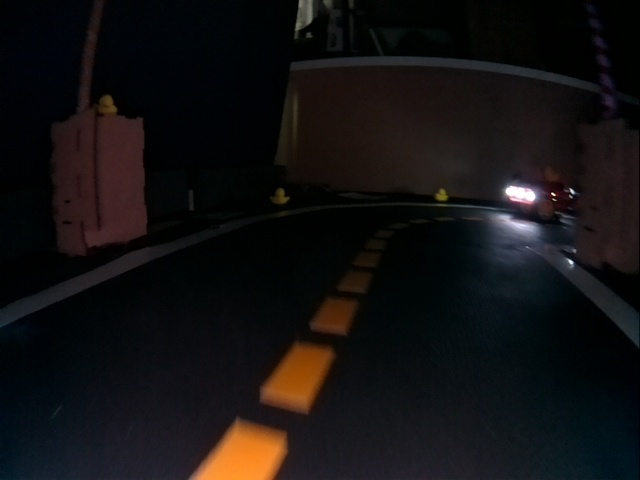Duckie: (96, 95, 117, 114), (271, 188, 290, 204), (543, 167, 559, 182), (436, 188, 447, 201)
Duckiebot: (513, 180, 577, 220)
